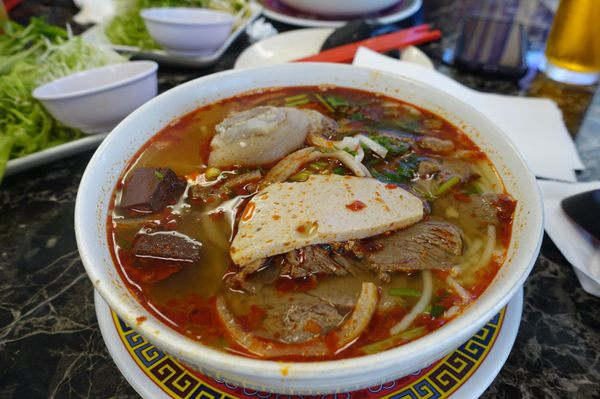pizza: (425, 1, 528, 79)
sushi: (73, 56, 547, 396), (33, 60, 160, 134), (140, 5, 245, 59)
